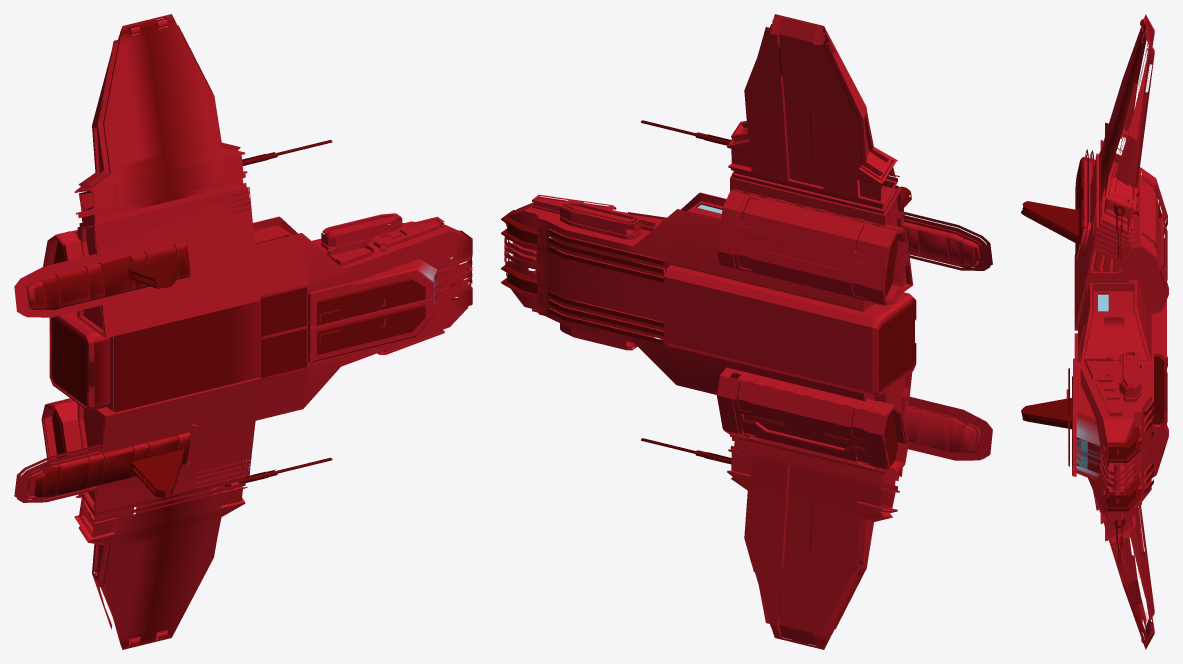
The model's file is enemy1.obj.
3 renders of one model, left to right at view 1: azimuth 30°, elevation 25°; view 2: azimuth 150°, elevation 25°; view 3: azimuth 270°, elevation 25°, orthographic.
Parts seen in each view (by area): view 1: Spaceship.Baked; view 2: Spaceship.Baked; view 3: Spaceship.Baked.
Part boxes in pixels (left/top/right/bottom): Spaceship.Baked: left=14, top=14, right=472, bottom=649; Spaceship.Baked: left=501, top=14, right=992, bottom=649; Spaceship.Baked: left=1021, top=14, right=1168, bottom=649.
Size of the model in its own units: 3.64 by 4.62 by 1.01.
Materials: 1 (1 with a texture image).
